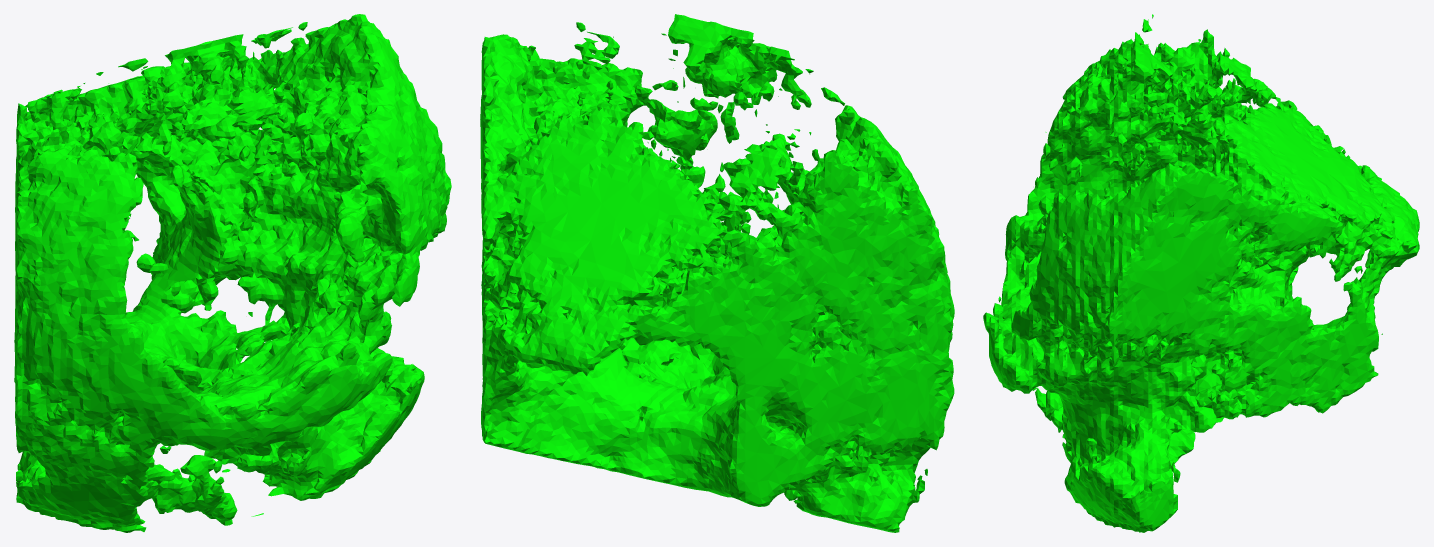
File: B939XXXX-1_base_28.obj
3 renders of one model, left to right at view 1: azimuth 30°, elevation 25°; view 2: azimuth 150°, elevation 25°; view 3: azimuth 270°, elevation 25°, orthographic. The views are drawn at different scales.
Visible parts, largest first — view 1: 28_base; view 2: 28_base; view 3: 28_base.
Part boxes in pixels (x1,y1,x2,y2): 28_base: [14, 14, 451, 532]; 28_base: [480, 14, 954, 532]; 28_base: [983, 14, 1419, 532].
Bounding box in the file's own units: 219 × 219 × 205.
